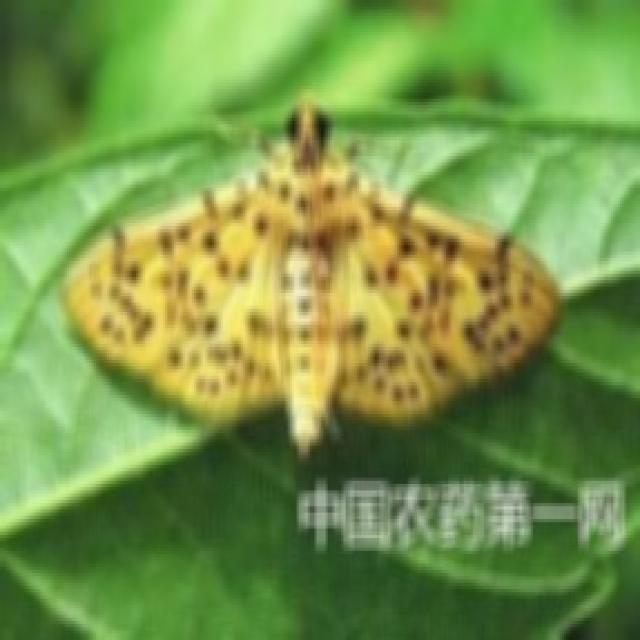peach borer: (57, 92, 570, 458)
